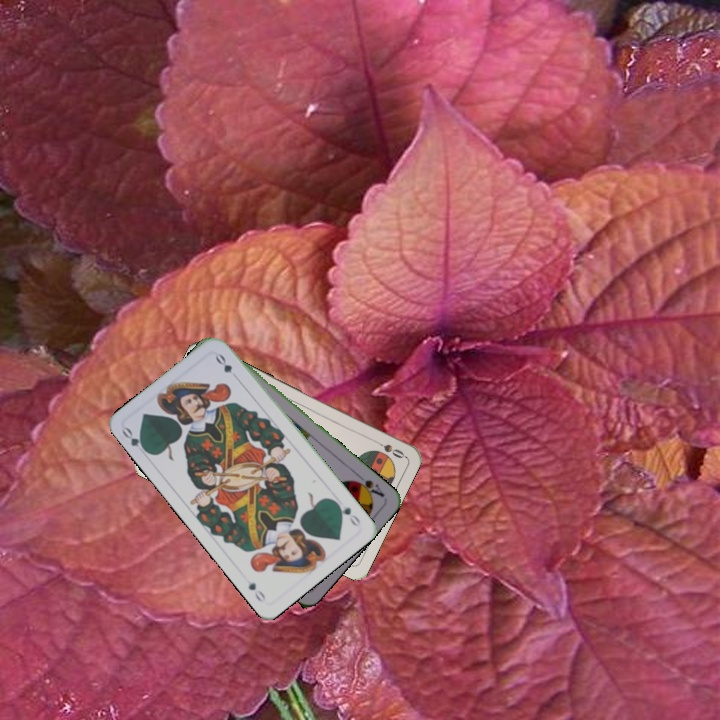GO: (118, 423, 152, 456), (331, 497, 363, 529)
SA: (349, 470, 387, 500)
SO: (369, 436, 407, 461)
